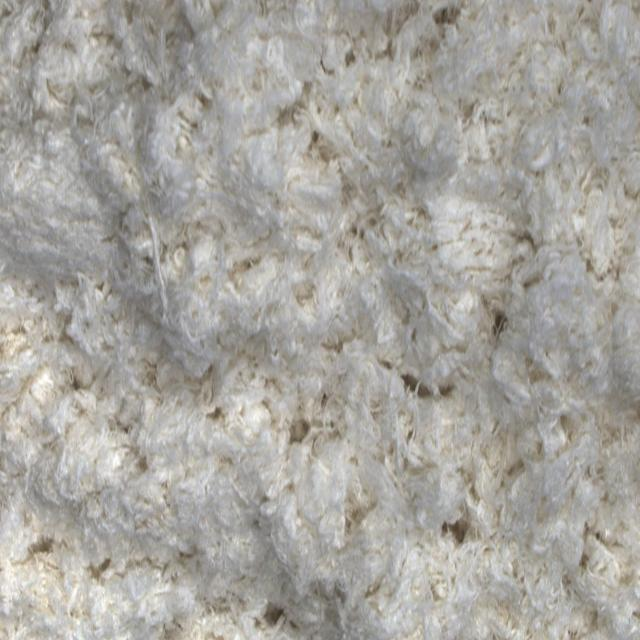dust: (443, 519, 470, 554)
